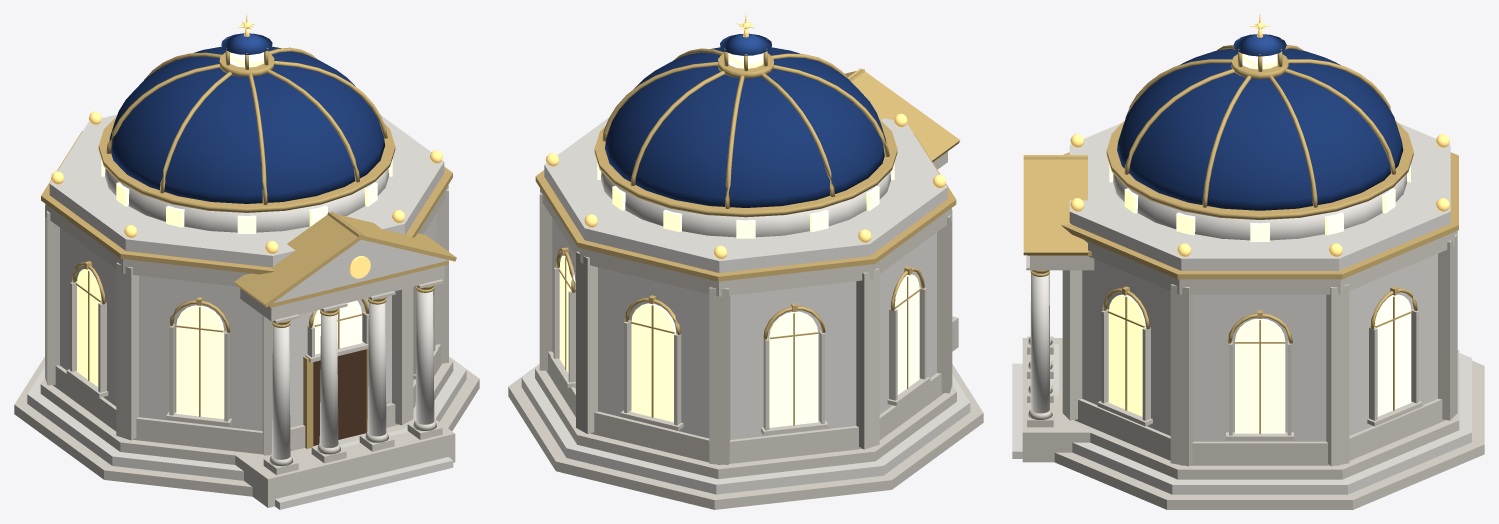
The model's file is orion_library.glb.
3 views of the same model, side by side, from view 1: azimuth 30°, elevation 25°; view 2: azimuth 150°, elevation 25°; view 3: azimuth 270°, elevation 25° (orthographic). The views are drawn at different scales.
Visible parts, largest first — view 1: OrionLibrary; view 2: OrionLibrary; view 3: OrionLibrary.
Part boxes in pixels (left/top/right/bottom): OrionLibrary: left=14, top=14, right=479, bottom=509; OrionLibrary: left=508, top=14, right=983, bottom=509; OrionLibrary: left=1012, top=14, right=1484, bottom=509.
Size of the model in its own units: 16.45 by 16.2 by 17.3.
